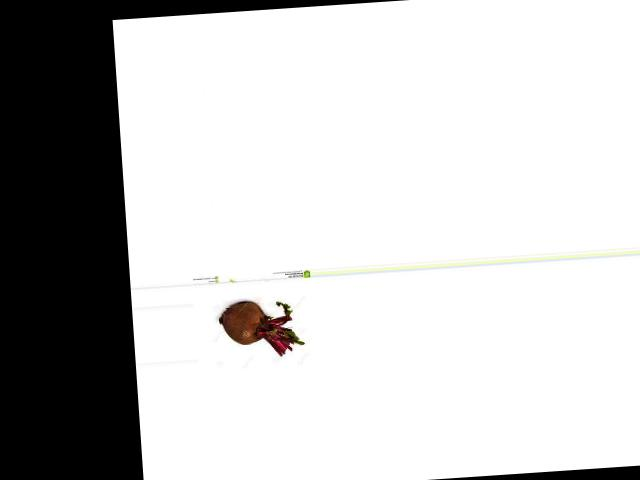beet: (217, 298, 304, 359)
